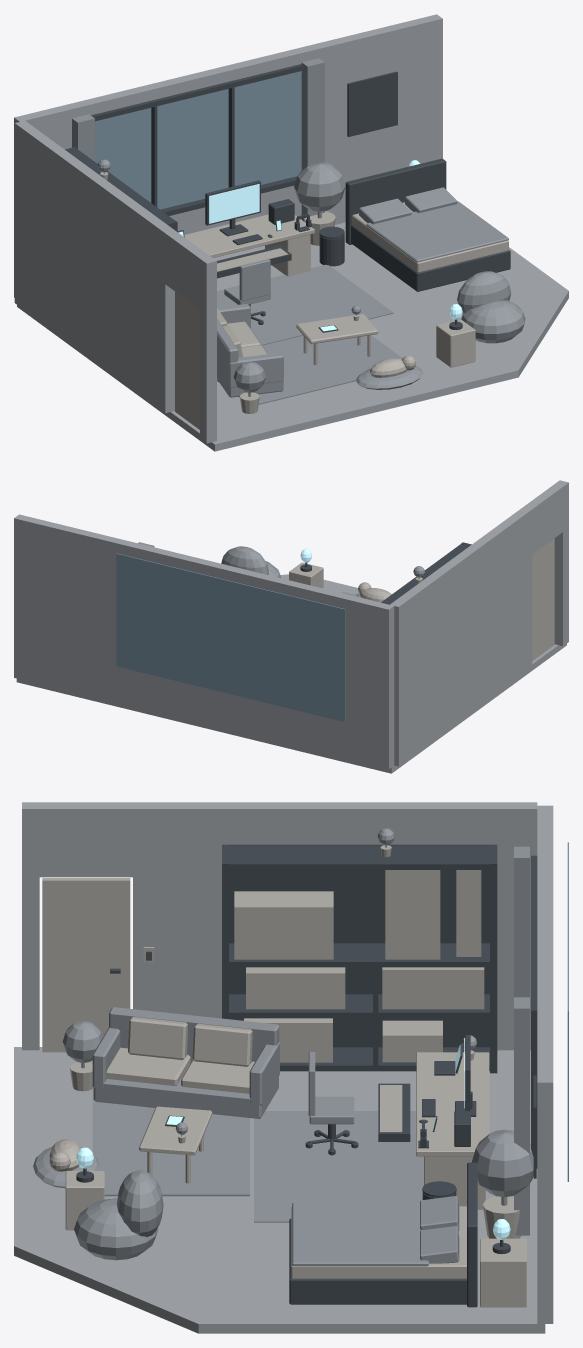
The model's file is sharkys_room_blockout_v01.glb.
The picture shows the model from 3 angles, top to bottom: view 1: azimuth 30°, elevation 25°; view 2: azimuth 150°, elevation 25°; view 3: azimuth 270°, elevation 25°; orthographic projection. The views are drawn at different scales.
Visible parts, largest first — view 1: ENV_Wall_Left, ENV_Floor, ENV_Wall_Right, ENV_WindowGlass, FUR_Bed, DEC_Rug_Workstation, DEC_Rug_Lounge, FUR_Sofa, ENV_WindowFrame, FUR_Desk, FUR_BeanBag, ENV_Door (+15 smaller); view 2: ENV_Wall_Right, ENV_Wall_Left, ENV_CityBackground, ENV_Floor, ENV_Door, FUR_BeanBag, FUR_DisplayCabinet, FUR_SideTable, DEC_DogBedProxy; view 3: ENV_Floor, ENV_Wall_Left, FUR_DisplayCabinet, FUR_Bed, FUR_Sofa, DEC_Rug_Workstation, ENV_Door, DEC_Rug_Lounge, ENV_Wall_Right, FUR_Desk, DSP_Castle_Bounds, FUR_BeanBag (+19 smaller).
Part boxes in pixels (bbox=[...]): ENV_Wall_Left: bbox=[14, 120, 216, 443]; ENV_Floor: bbox=[17, 222, 568, 451]; ENV_Wall_Right: bbox=[14, 14, 442, 297]; ENV_WindowGlass: bbox=[95, 71, 301, 209]; FUR_Bed: bbox=[345, 158, 510, 291]; DEC_Rug_Workstation: bbox=[217, 264, 393, 345]; DEC_Rug_Lounge: bbox=[217, 335, 402, 404]; FUR_Sofa: bbox=[217, 304, 283, 397]; ENV_WindowFrame: bbox=[91, 64, 301, 215]; FUR_Desk: bbox=[184, 214, 314, 276]; FUR_BeanBag: bbox=[457, 271, 525, 343]; ENV_Door: bbox=[175, 291, 199, 429]; ENV_Wall_Right: bbox=[14, 514, 394, 769]; ENV_Wall_Left: bbox=[390, 480, 568, 766]; ENV_CityBackground: bbox=[116, 553, 345, 721]; ENV_Floor: bbox=[16, 574, 566, 773]; ENV_Door: bbox=[532, 538, 554, 660]; FUR_BeanBag: bbox=[221, 546, 280, 577]; FUR_DisplayCabinet: bbox=[381, 542, 471, 604]; FUR_SideTable: bbox=[289, 562, 323, 588]; DEC_DogBedProxy: bbox=[355, 582, 391, 602]; ENV_Floor: bbox=[14, 1047, 545, 1333]; ENV_Wall_Left: bbox=[22, 802, 537, 1050]; FUR_DisplayCabinet: bbox=[222, 844, 497, 1073]; FUR_Bed: bbox=[289, 1162, 477, 1307]; FUR_Sofa: bbox=[92, 1007, 279, 1118]; DEC_Rug_Workstation: bbox=[254, 1111, 423, 1222]; ENV_Door: bbox=[42, 878, 130, 1052]; DEC_Rug_Lounge: bbox=[92, 1089, 249, 1196]; ENV_Wall_Right: bbox=[537, 805, 553, 1323]; FUR_Desk: bbox=[416, 1052, 489, 1209]; DSP_Castle_Bounds: bbox=[234, 891, 333, 959]; FUR_BeanBag: bbox=[74, 1169, 163, 1260].
Size of the model in its own units: 7.47 by 3.12 by 6.25.
